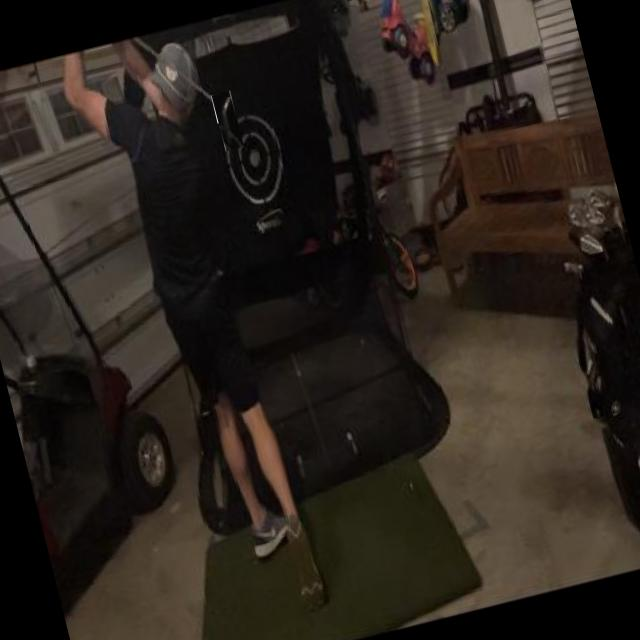club head: (211, 90, 244, 151)
